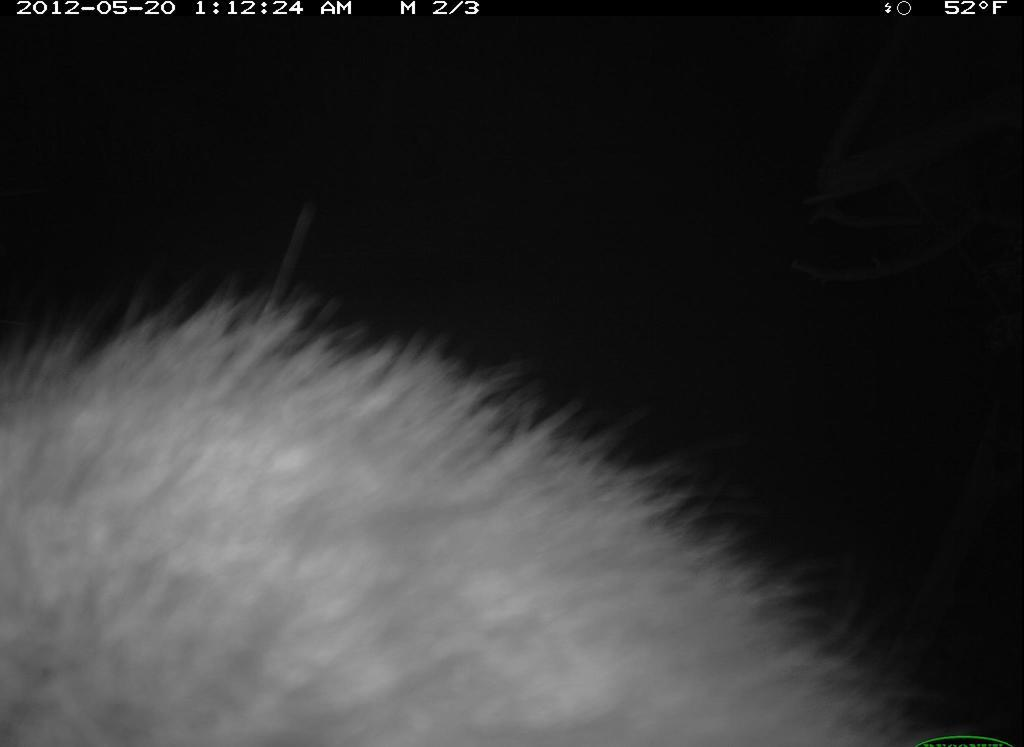raccoon: (8, 272, 930, 747)
